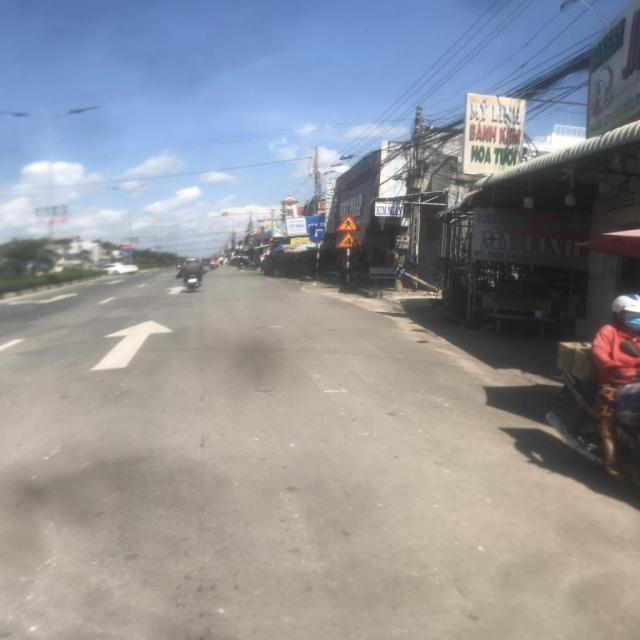cam_xe_di_nguoc_chieu: (122, 244, 130, 250)
cho_quay_xe: (309, 226, 325, 242)
chu_y_nguoi_di_bo_cat_ngang: (335, 213, 362, 231)
chu_y_nguoi_di_xe_dap_cat_ngang: (336, 231, 362, 247)
huong_phai_di_vuot_chuong_ngai_vat_phai: (121, 250, 130, 256)
